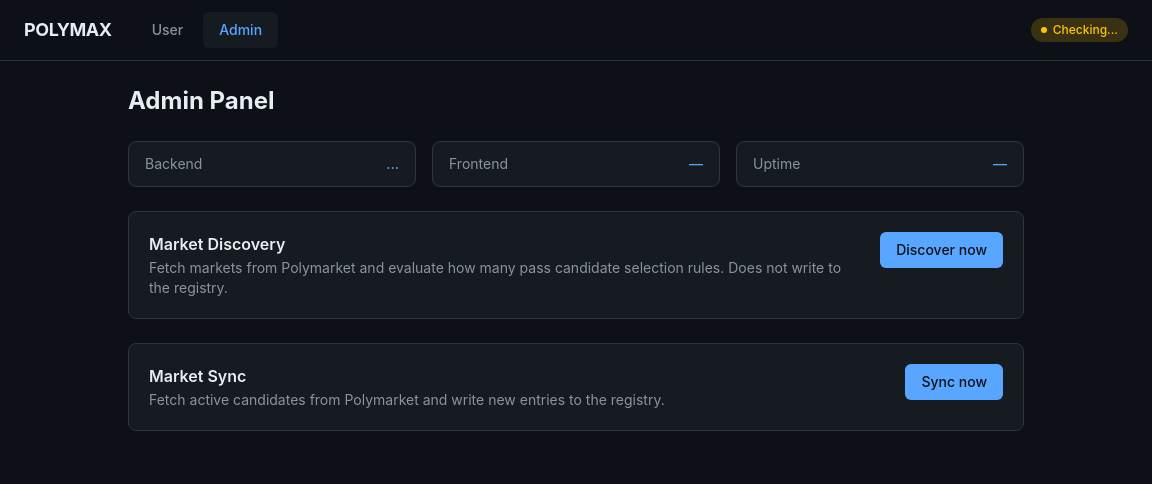
Test: SyncAction › shows loading state while sync is in progress
This screenshot has width=1152, height=484.
Step 1. Click the button "Sync now" → (954, 382), box [905,364,1003,400]
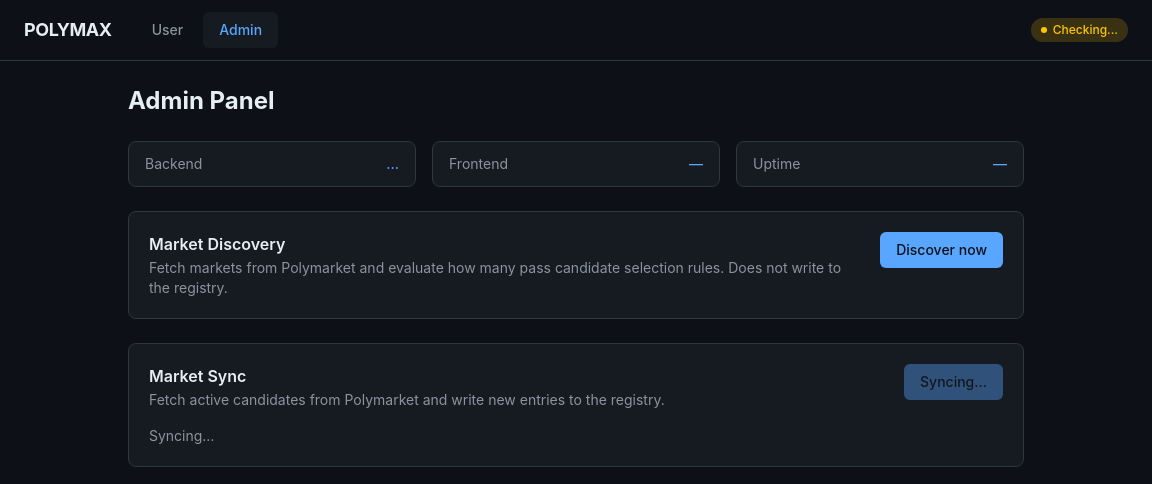
Check: the message named "sync in progress" is shown, box [149,427,214,444]
